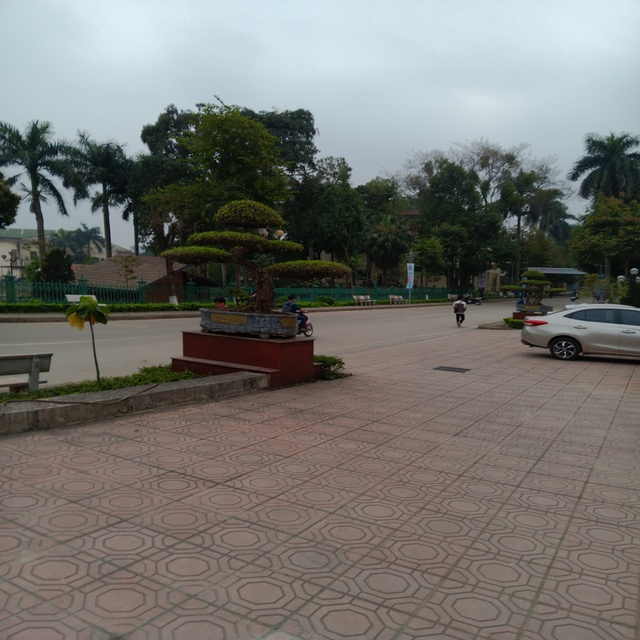caycanh: (166, 190, 347, 336), (503, 265, 562, 316)
